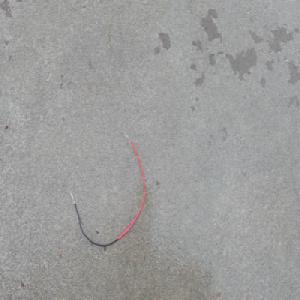Wire: (70, 129, 148, 247)
